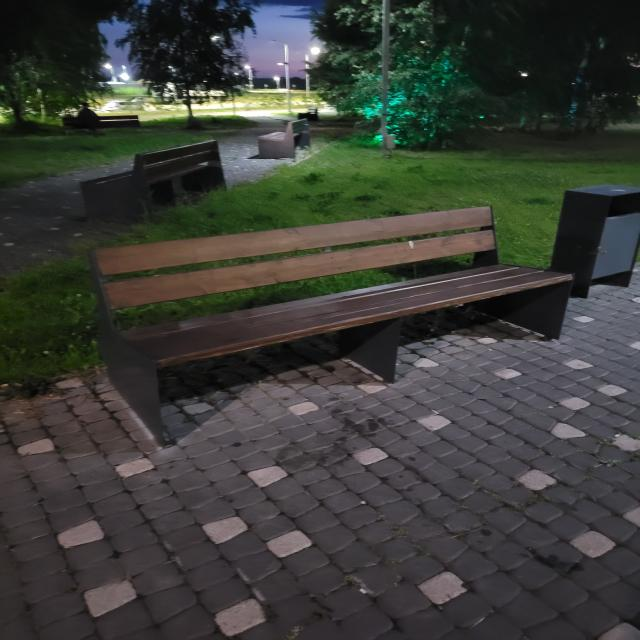Bench: (90, 206, 574, 449)
